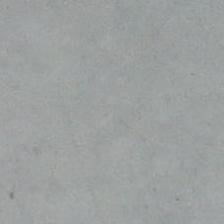Non_Crack: (16, 19, 206, 206)
